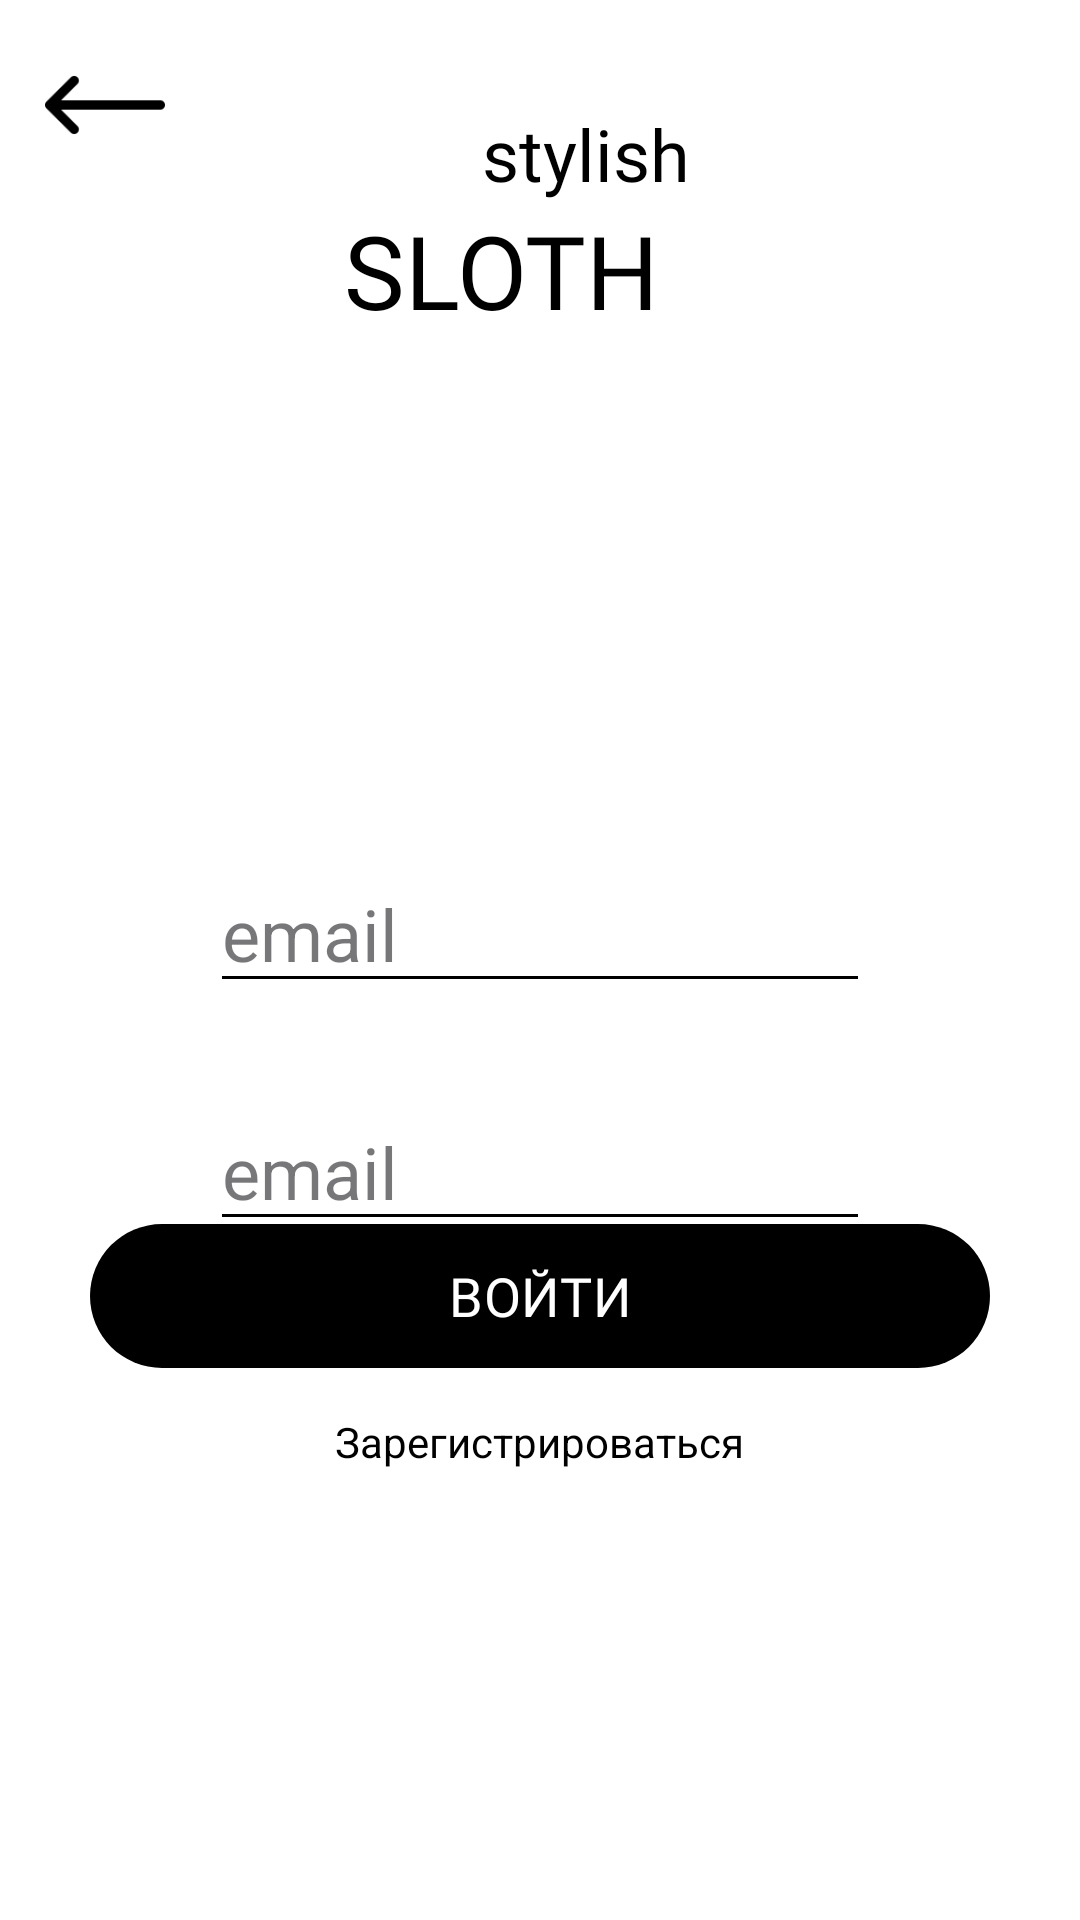

Named icons in this screenshot (1080*1920) and their bounding boxes, box=[x1, y1, x2, y2]:
left arrow: box=[45, 76, 165, 134]
